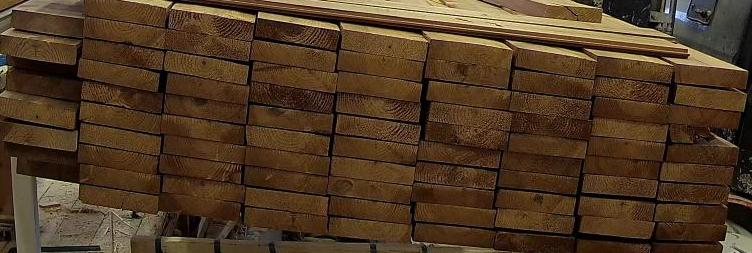Wood-Plank: (0, 90, 78, 129), (166, 8, 255, 41), (256, 16, 341, 50), (78, 57, 159, 91), (343, 28, 429, 60), (252, 39, 337, 71), (253, 61, 338, 93), (339, 49, 424, 81), (165, 50, 247, 83), (335, 113, 422, 144), (78, 123, 159, 155), (166, 30, 249, 61), (80, 102, 160, 134), (249, 104, 334, 134), (338, 71, 423, 101), (82, 80, 161, 112), (162, 134, 246, 164), (162, 113, 243, 144), (425, 59, 511, 88), (251, 82, 334, 112), (333, 134, 416, 164), (84, 16, 164, 47), (165, 94, 247, 124), (513, 69, 595, 99), (518, 48, 597, 79), (246, 146, 330, 175), (167, 73, 248, 103), (246, 126, 329, 155), (82, 39, 162, 69), (425, 121, 510, 149), (337, 93, 419, 122), (430, 38, 512, 67), (79, 164, 158, 194), (0, 34, 76, 65), (429, 102, 513, 130), (6, 68, 79, 100), (427, 81, 510, 109), (419, 140, 502, 168), (510, 91, 593, 119), (417, 161, 497, 190), (160, 155, 242, 183), (159, 193, 241, 221), (78, 144, 157, 173), (78, 186, 159, 214), (245, 167, 326, 195), (332, 157, 416, 184), (83, 0, 167, 27), (0, 121, 78, 150), (329, 178, 412, 205), (329, 196, 411, 223), (162, 175, 243, 202), (513, 113, 593, 140), (246, 189, 329, 215), (244, 208, 326, 234), (413, 182, 495, 208), (415, 202, 497, 228), (596, 76, 671, 104), (414, 223, 497, 248), (13, 9, 87, 37), (510, 133, 589, 159), (498, 189, 577, 215), (497, 209, 576, 235), (595, 96, 671, 123), (328, 217, 412, 241), (499, 169, 580, 193), (677, 64, 748, 91), (581, 196, 657, 221), (588, 136, 667, 160), (674, 86, 749, 111), (504, 153, 582, 177), (597, 56, 671, 81), (495, 231, 577, 253), (7, 143, 79, 168), (14, 157, 79, 184), (584, 156, 662, 178), (582, 217, 656, 240), (668, 142, 738, 166), (584, 175, 657, 198), (662, 162, 735, 185), (671, 106, 743, 129), (594, 119, 669, 141), (660, 182, 730, 204), (5, 55, 77, 76), (655, 222, 727, 242), (671, 123, 735, 145), (657, 205, 729, 224), (544, 3, 603, 25), (577, 239, 652, 253), (653, 242, 725, 253)
